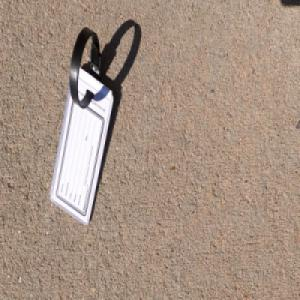LuggageTag: (48, 23, 114, 226)
